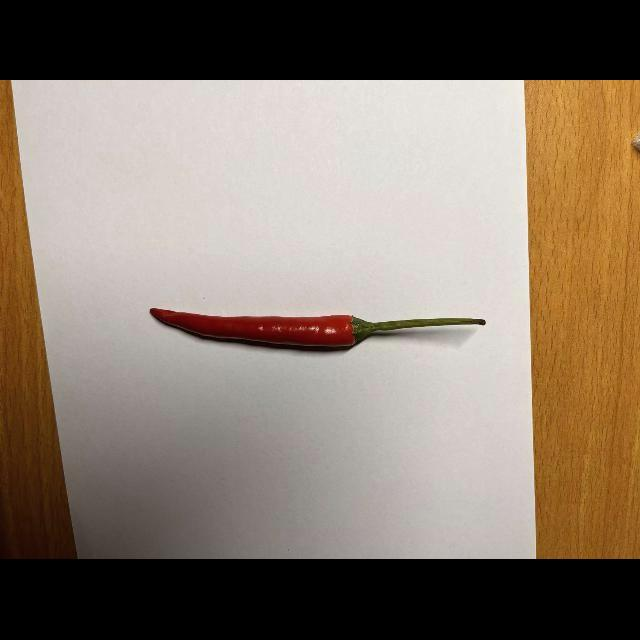chili_pepper: (142, 285, 486, 356)
